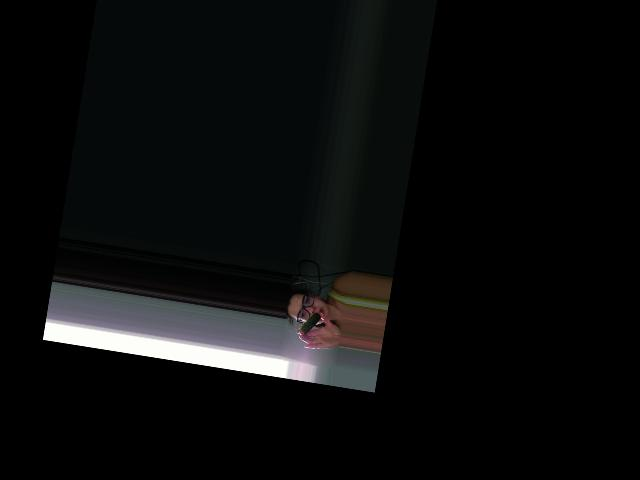cucumber: (299, 310, 321, 335)
